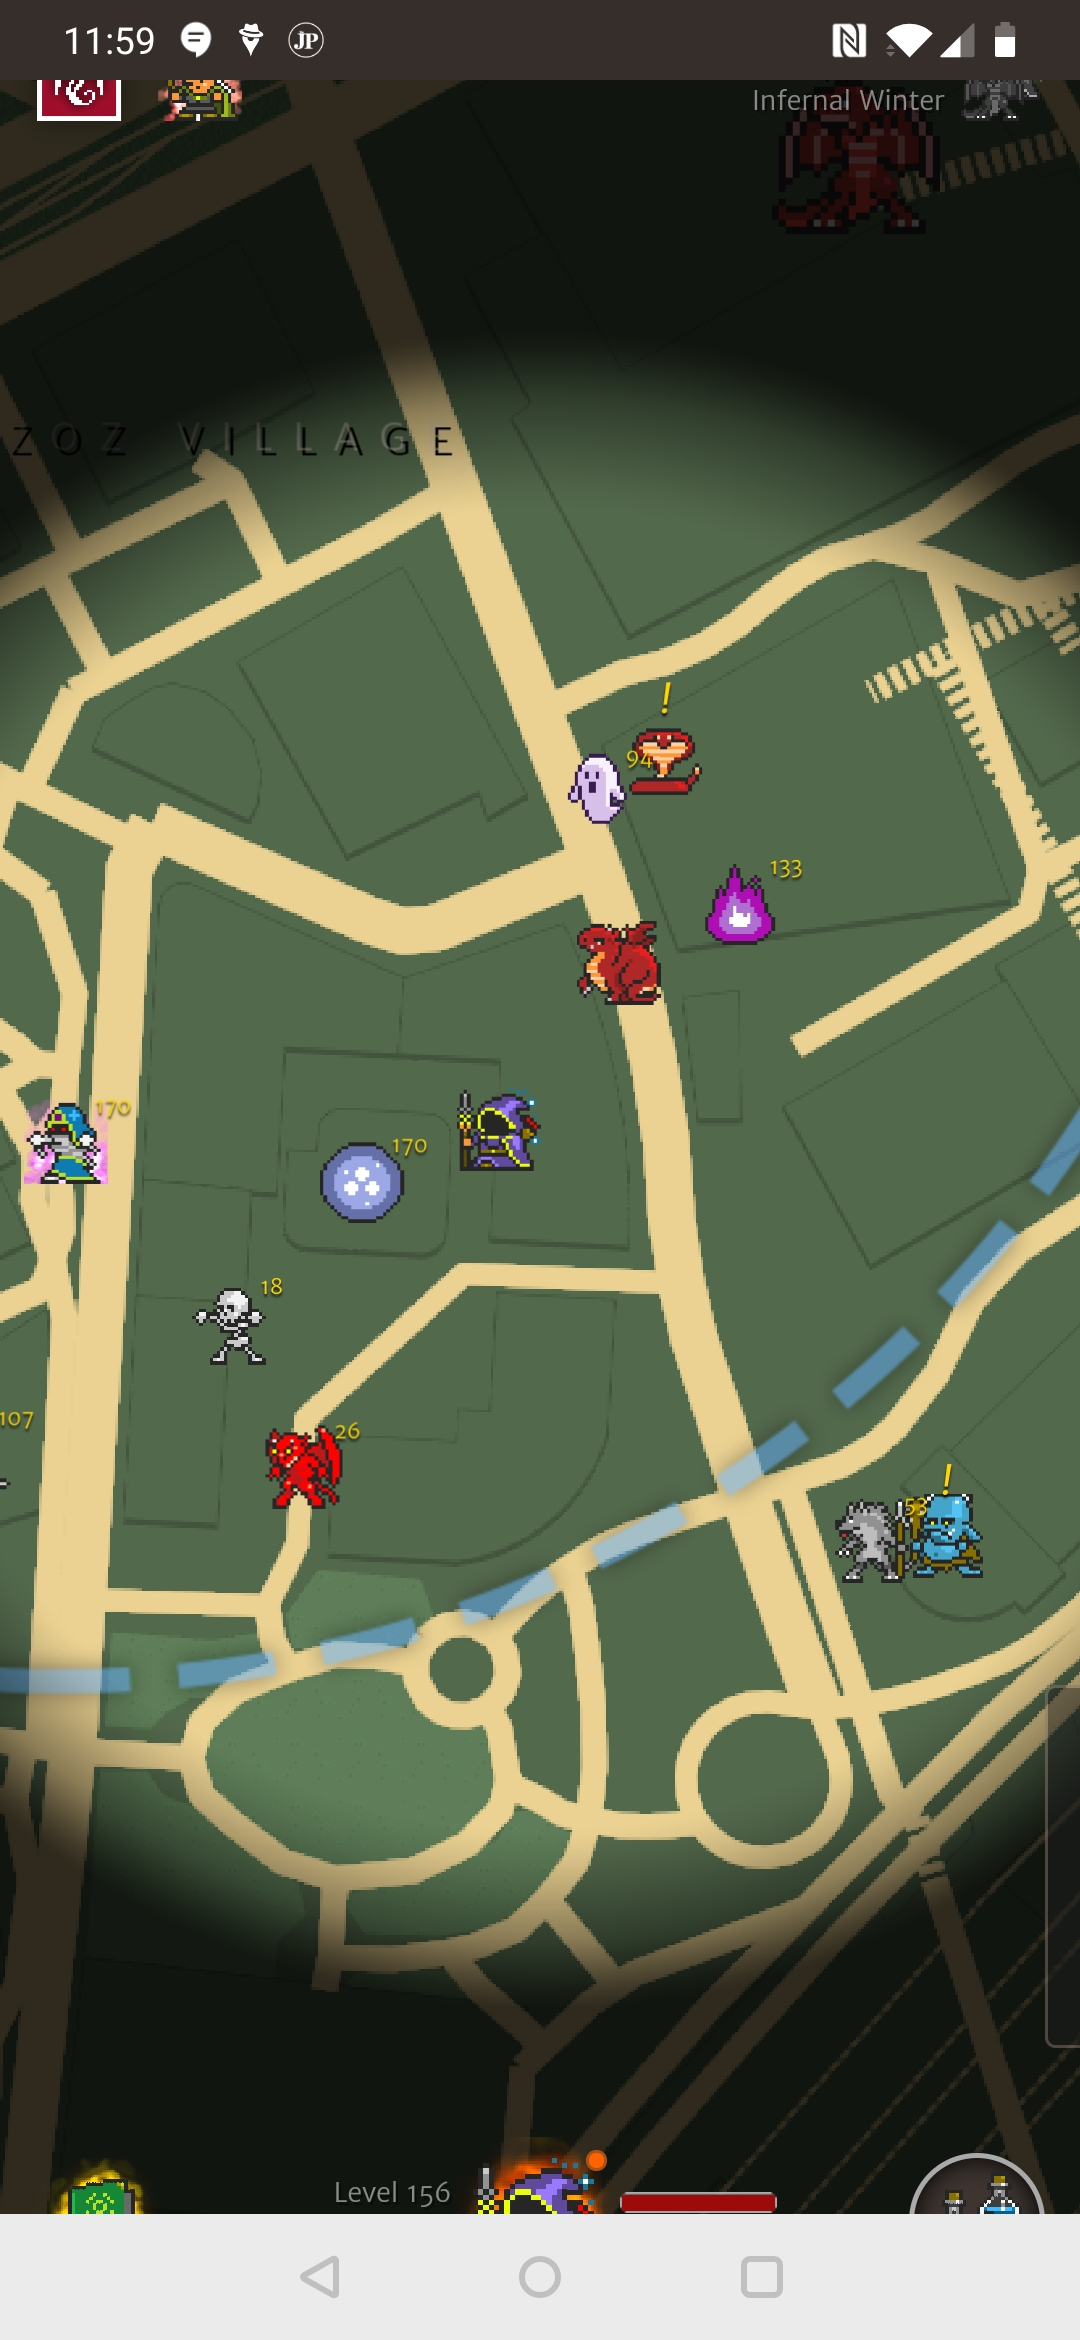monster: (315, 1134, 419, 1244), (260, 1416, 363, 1527), (26, 1102, 129, 1209), (705, 851, 798, 965), (826, 1496, 926, 1592), (912, 1482, 998, 1592), (188, 1282, 291, 1375), (629, 734, 701, 806)
player: (446, 1085, 560, 1185)
